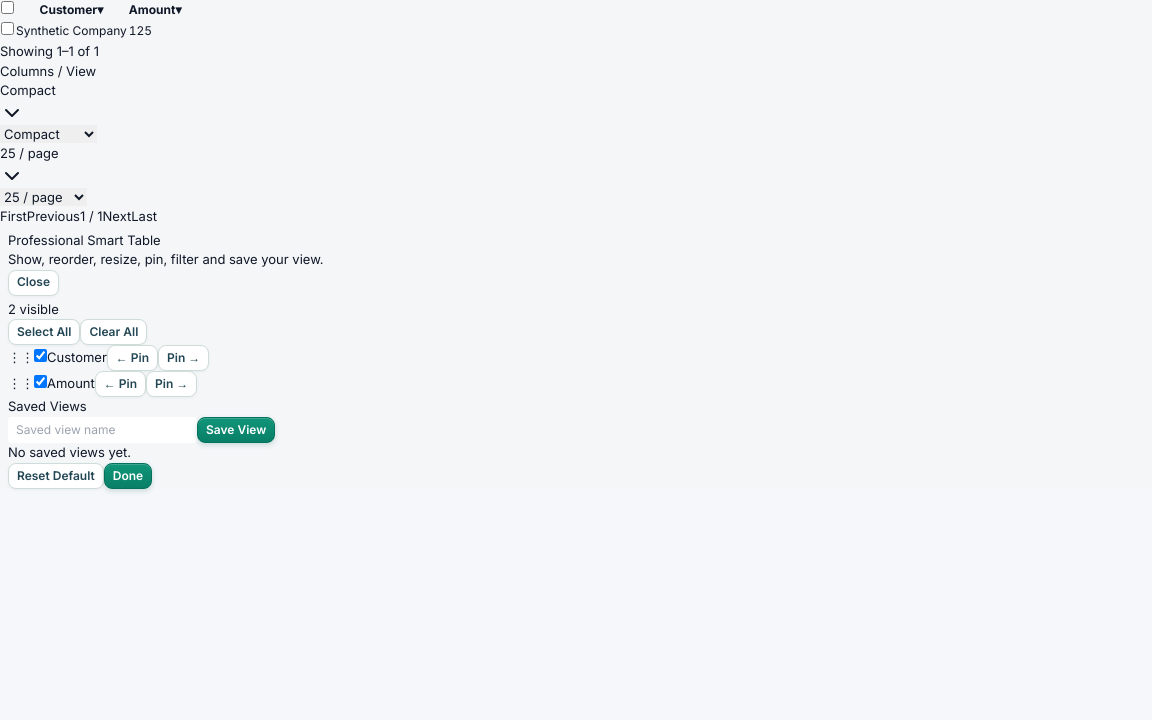
Test: shared ERP table › keeps the final data column visible after customization
Expected: the dialog named "Customize table columns" is shown, [8, 232, 324, 489]
Click the checkbox labelled "Amount".
click(40, 381)  # box [34, 375, 47, 388]
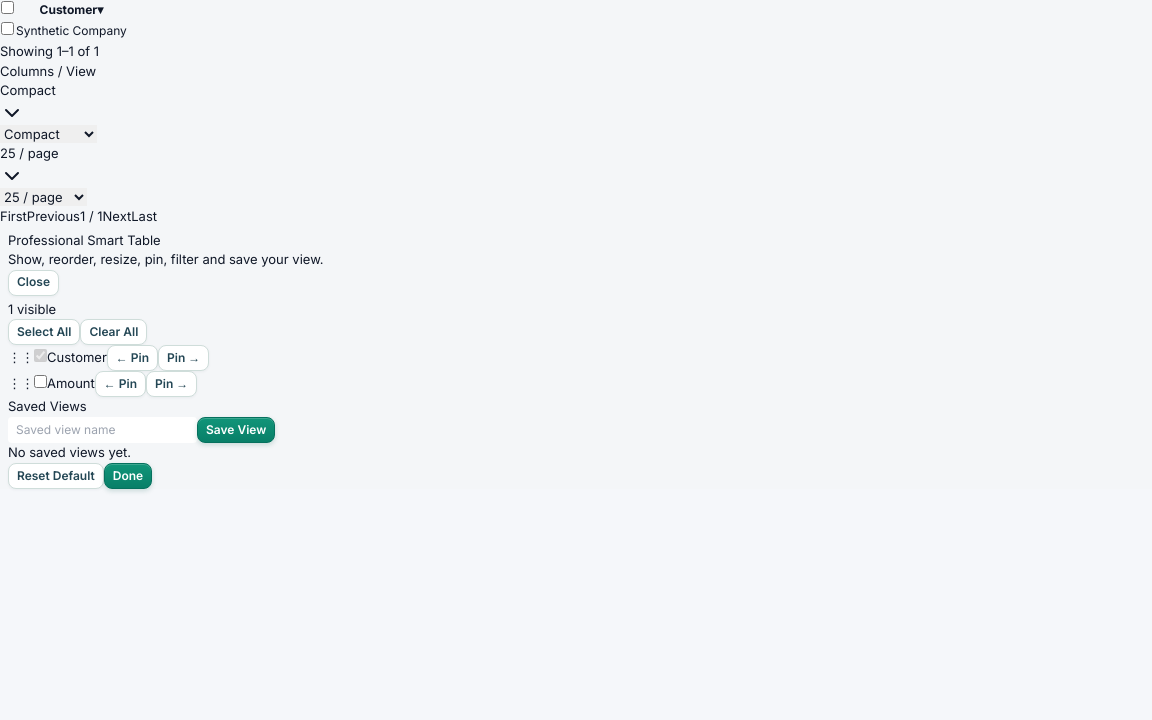
Expected: the column heading "Customer" is shown, [15, 0, 128, 20]
Expected: the checkbox labelled "Customer" is disabled, [34, 349, 47, 362]
